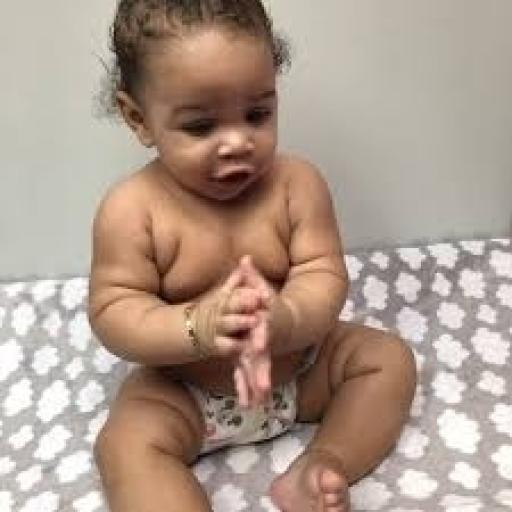clapping: (84, 0, 419, 510)
